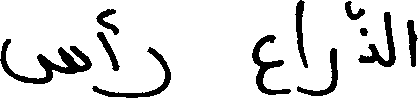أ: (95, 6, 118, 95)
ا: (294, 0, 308, 70), (405, 18, 416, 67)
ذ: (358, 6, 378, 65)
ر: (129, 45, 170, 96), (313, 46, 336, 96)
س: (0, 36, 92, 90)
ع: (251, 32, 282, 94)
ل: (381, 9, 395, 67)
